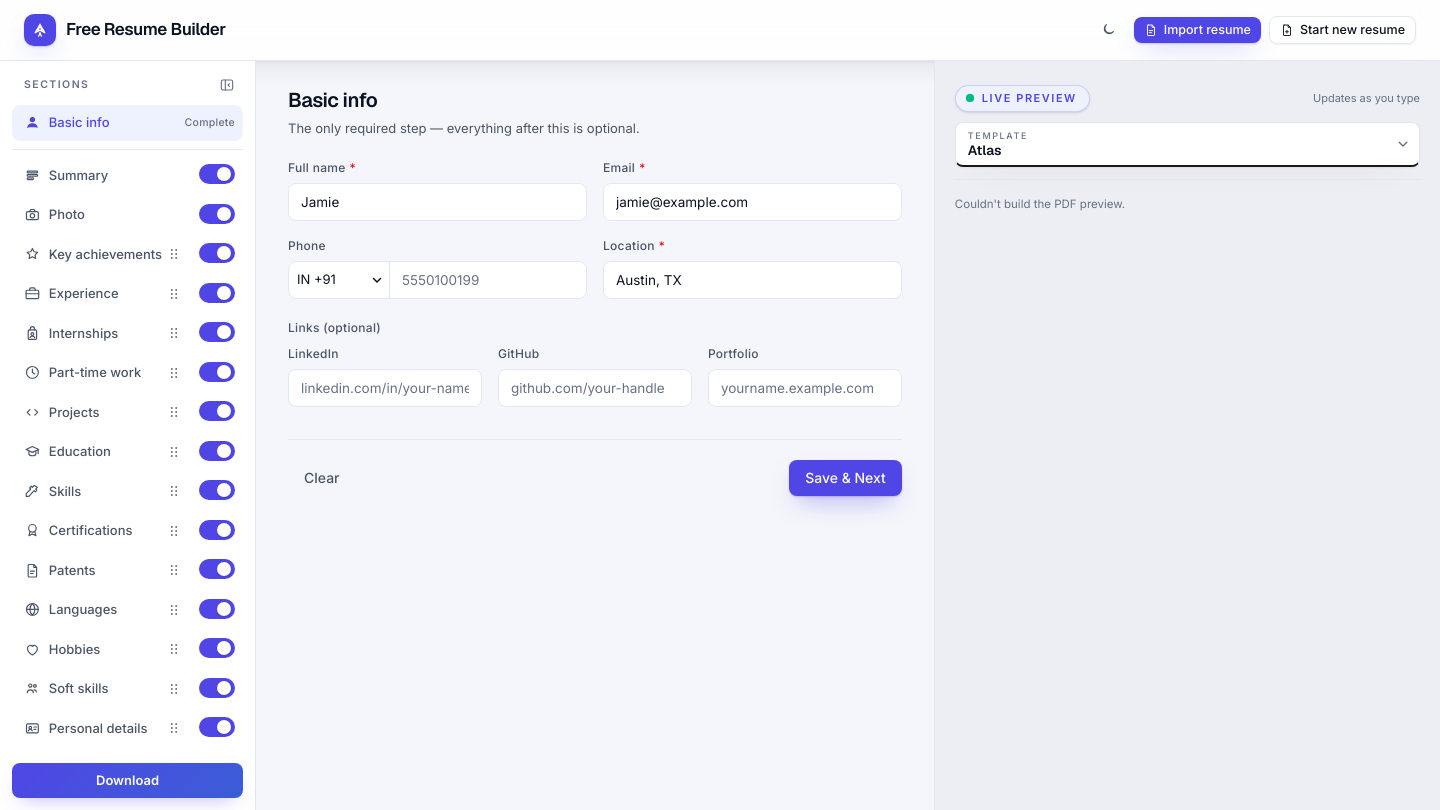
it: BuilderShell › walks Summary -> Photo -> Key achievements via Skip
Expected: the heading "Basic info" is shown, [288,87,377,113]
Click the button "Save & Next" at [845, 478], box [789,460,902,496]
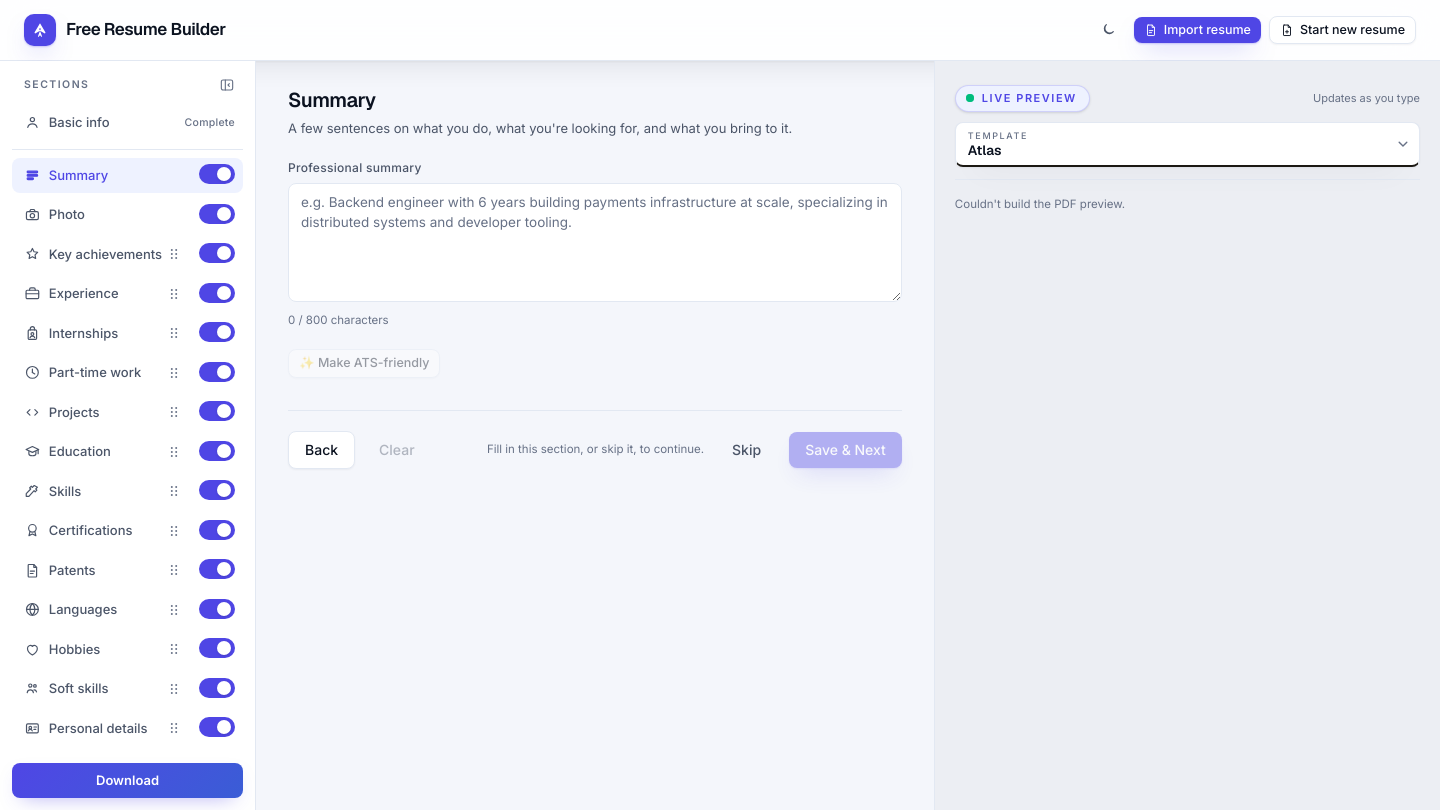
Now the heading "Summary" is shown, box [288,87,376,113]
Click the button "Skip" at [747, 450], box [716,432,777,468]
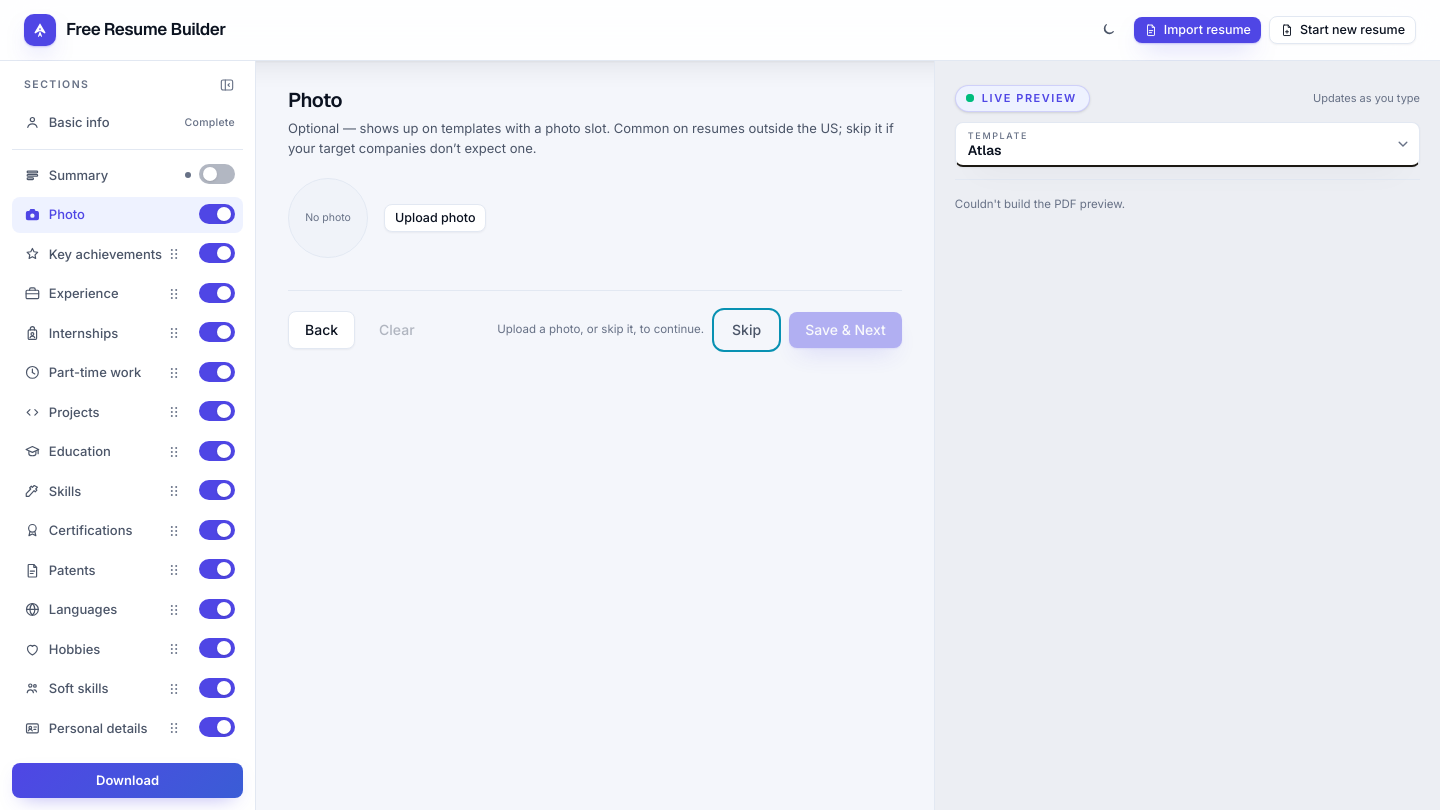
Now the button "Save & Next" is disabled, box [789,312,902,348]
Now the heading "Photo" is shown, box [288,87,342,113]
Now the text "No photo" is shown, box [301,210,355,226]
Click the button "Skip" at [747, 330], box [716,312,777,348]
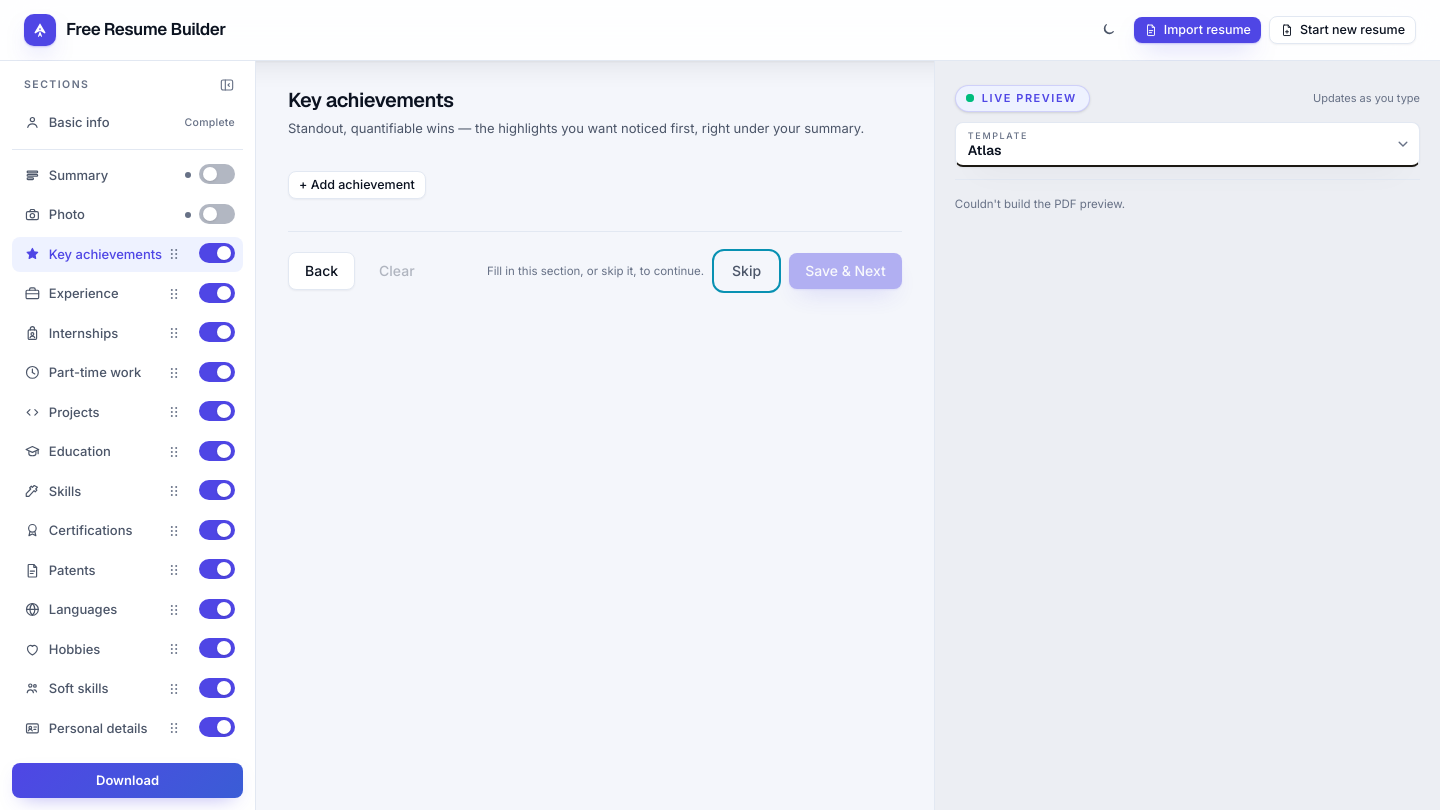
Now the heading "Key achievements" is shown, box [288,87,454,113]
